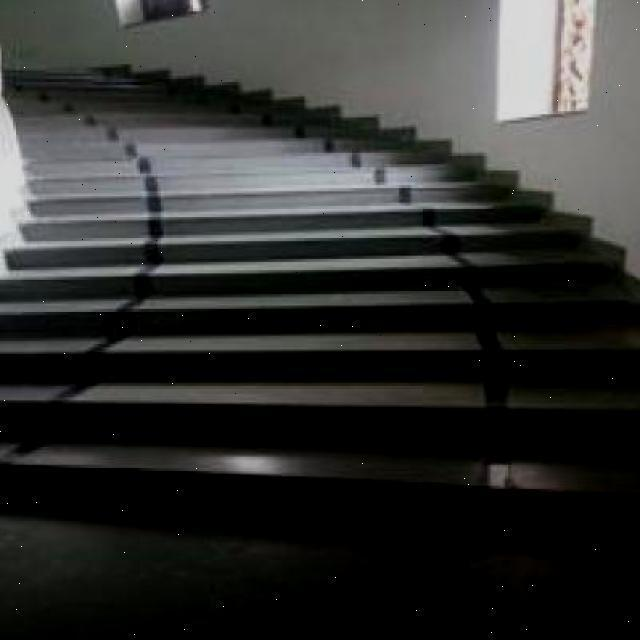stair: (72, 241, 516, 524)
